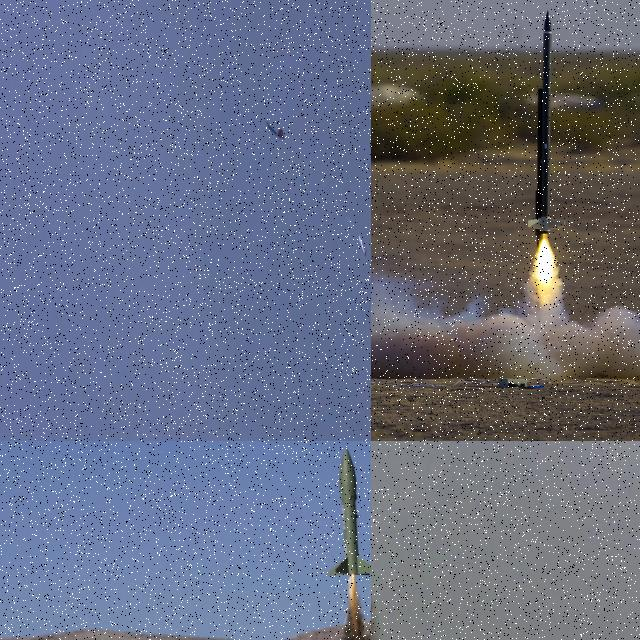Rocket: (528, 9, 567, 235), (326, 446, 371, 577), (266, 120, 278, 138)
